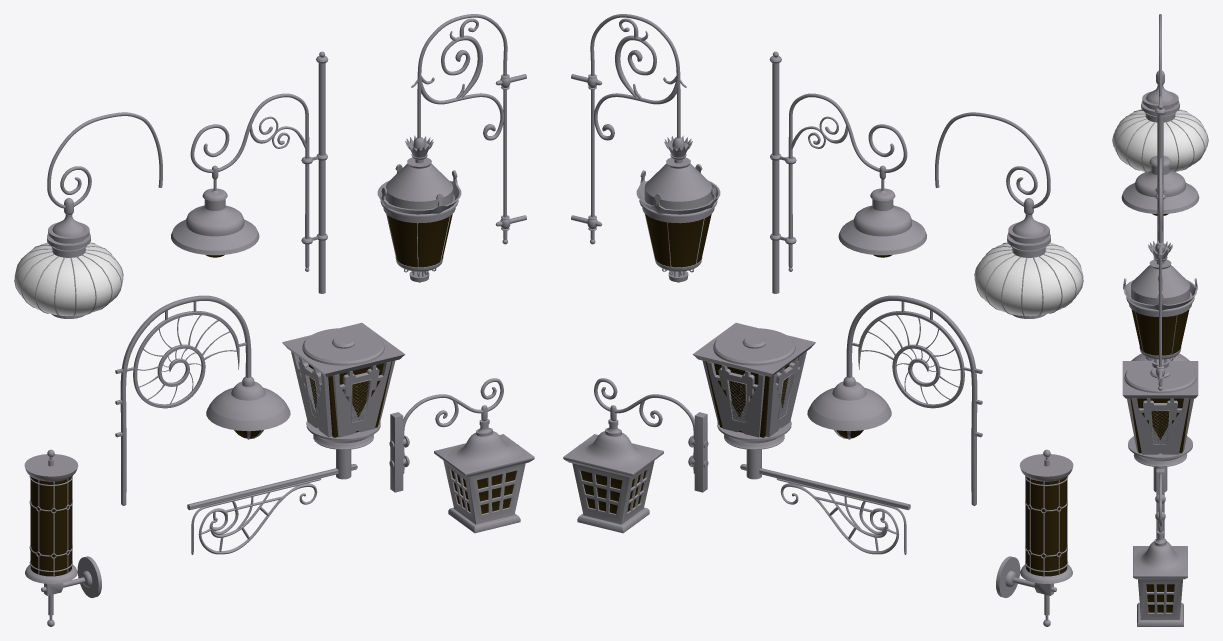
File: lamps.fbx
3 renders of one model, left to right at view 1: azimuth 30°, elevation 25°; view 2: azimuth 150°, elevation 25°; view 3: azimuth 270°, elevation 25°, orthographic. The views are drawn at different scales.
Visible parts, largest first — view 1: Окружность.006, ТраекторияNurbs.007, ТраекторияNurbs.013, Окружность.019, Окружность.024, ТраекторияNurbs.001, Окружность.002; view 2: Окружность.006, ТраекторияNurbs.007, ТраекторияNurbs.013, Окружность.019, Окружность.024, ТраекторияNurbs.001, Окружность.002; view 3: Окружность.006, ТраекторияNurbs.007, ТраекторияNurbs.013, Окружность.019, Окружность.024, ТраекторияNurbs.001.
Part boxes in pixels (x1=…): Окружность.006: x1=187, y1=322, x2=404, y2=554; ТраекторияNurbs.007: x1=377, y1=14, x2=526, y2=282; ТраекторияNurbs.013: x1=14, y1=112, x2=162, y2=318; Окружность.019: x1=389, y1=378, x2=534, y2=533; Окружность.024: x1=171, y1=51, x2=328, y2=293; ТраекторияNurbs.001: x1=115, y1=295, x2=290, y2=505; Окружность.002: x1=24, y1=449, x2=101, y2=626; Окружность.006: x1=693, y1=322, x2=910, y2=554; ТраекторияNurbs.007: x1=571, y1=14, x2=720, y2=282; ТраекторияNurbs.013: x1=935, y1=112, x2=1083, y2=318; Окружность.019: x1=563, y1=378, x2=708, y2=533; Окружность.024: x1=769, y1=51, x2=926, y2=293; ТраекторияNurbs.001: x1=807, y1=295, x2=982, y2=505; Окружность.002: x1=996, y1=449, x2=1073, y2=626; Окружность.006: x1=1122, y1=361, x2=1198, y2=491; ТраекторияNurbs.007: x1=1123, y1=158, x2=1197, y2=390; ТраекторияNurbs.013: x1=1112, y1=14, x2=1208, y2=171; Окружность.019: x1=1133, y1=468, x2=1187, y2=626; Окружность.024: x1=1121, y1=95, x2=1199, y2=241; ТраекторияNurbs.001: x1=1131, y1=353, x2=1189, y2=360.
Size of the model in its own units: 472 by 457 by 89.4.
